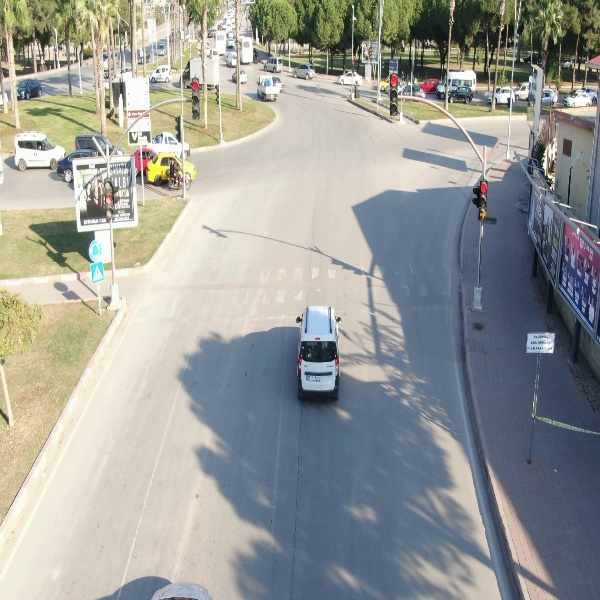car: (293, 303, 346, 403), (12, 130, 69, 172), (14, 76, 44, 99), (564, 88, 596, 108), (447, 83, 476, 104), (148, 62, 173, 86), (291, 62, 318, 81), (261, 52, 284, 74), (337, 69, 364, 85)
